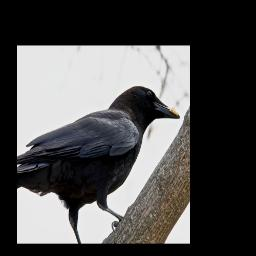Crow: (17, 86, 181, 243)
